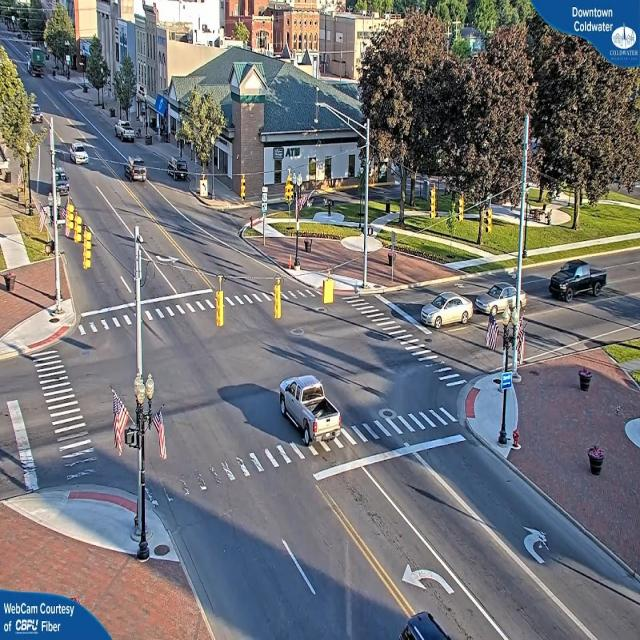car: (278, 372, 340, 451), (546, 260, 606, 300), (394, 611, 474, 640), (422, 288, 473, 333), (474, 276, 528, 318), (125, 160, 148, 183), (166, 158, 188, 180), (116, 123, 137, 143), (69, 145, 87, 166), (56, 170, 70, 192), (34, 110, 44, 124)
